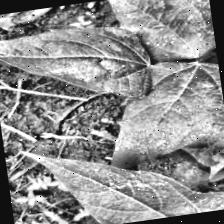ALS: (0, 12, 154, 109), (109, 60, 224, 165), (92, 0, 217, 72)
